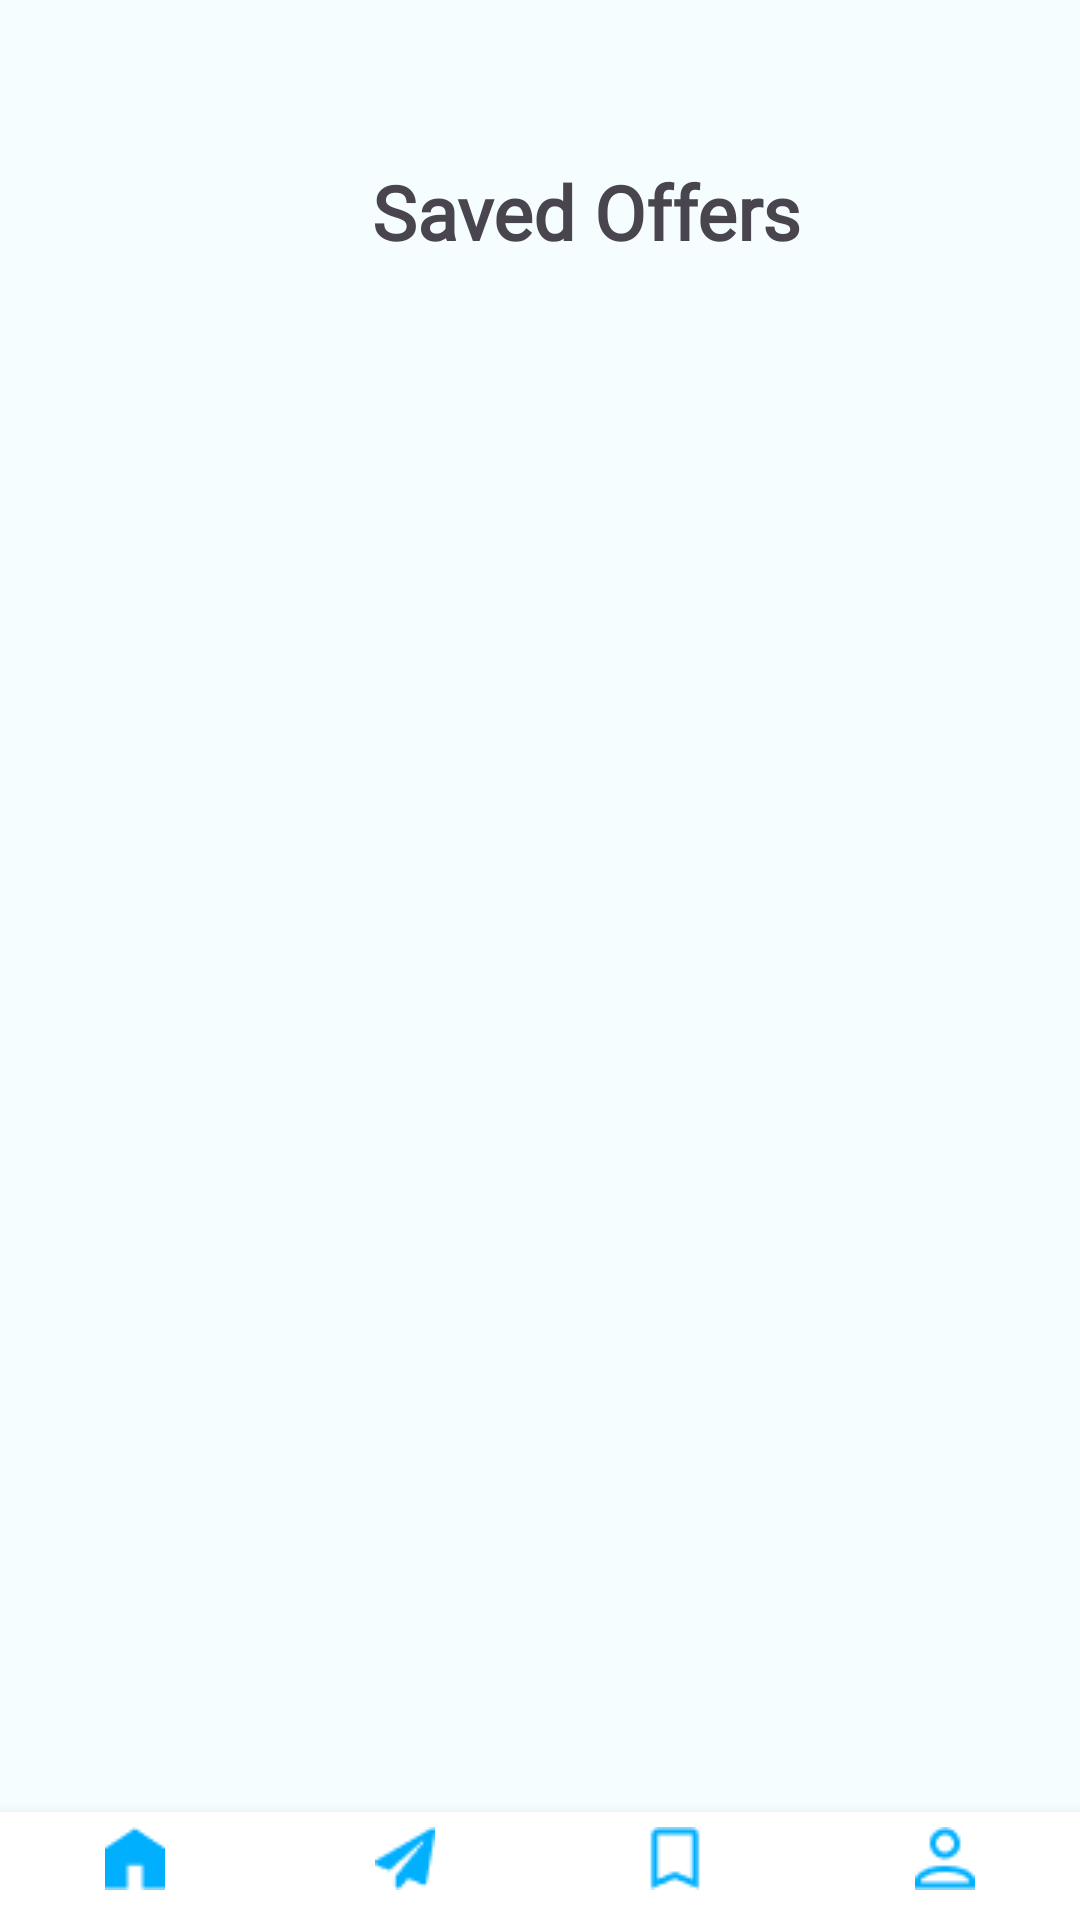

Named icons in this screenshot (1080*1920) and their centers, (x=x, y=y):
home: (x=135, y=1858)
message: (x=405, y=1858)
profil: (x=945, y=1858)
save: (x=675, y=1858)
